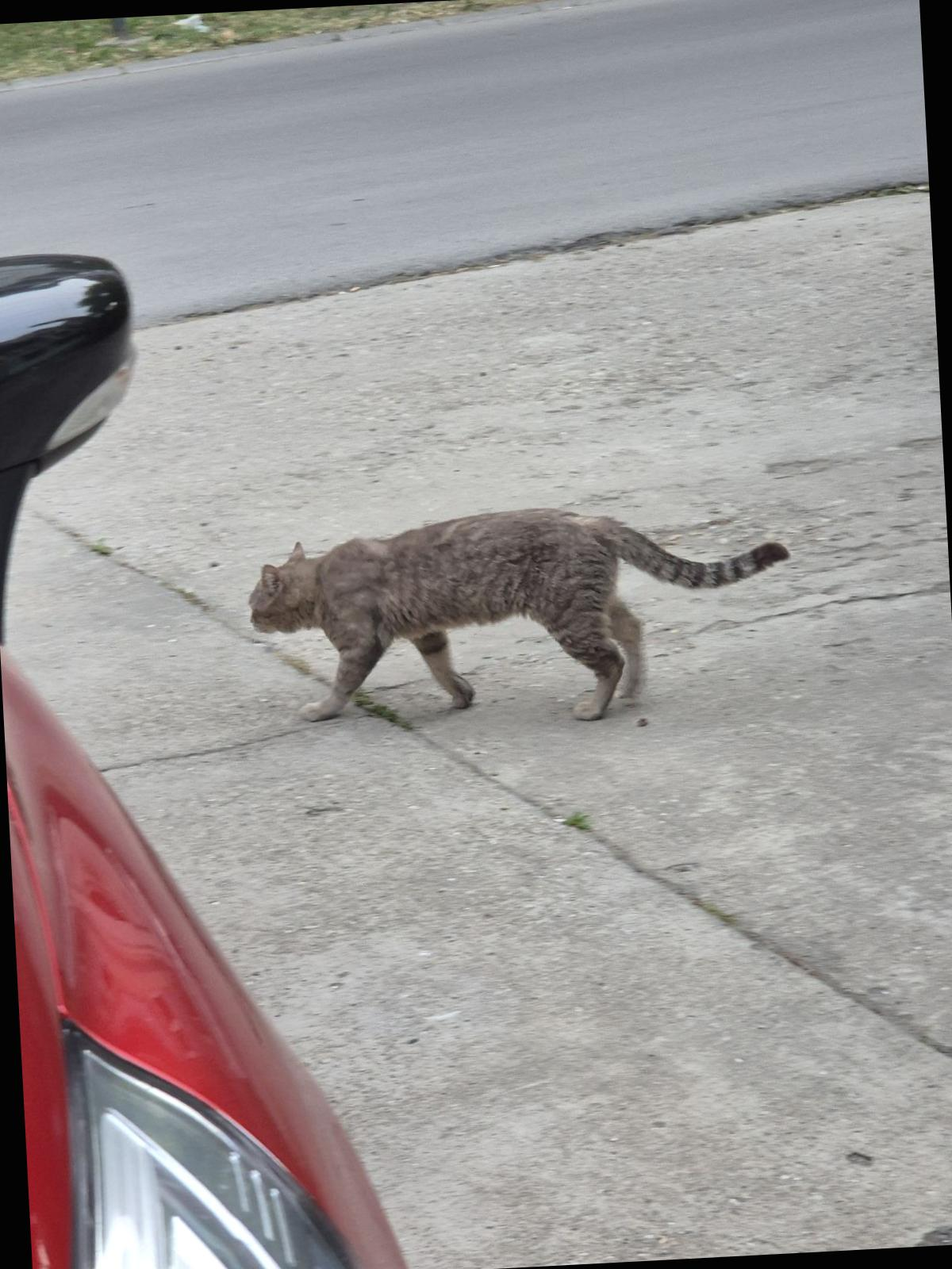macka: (244, 496, 798, 740)
